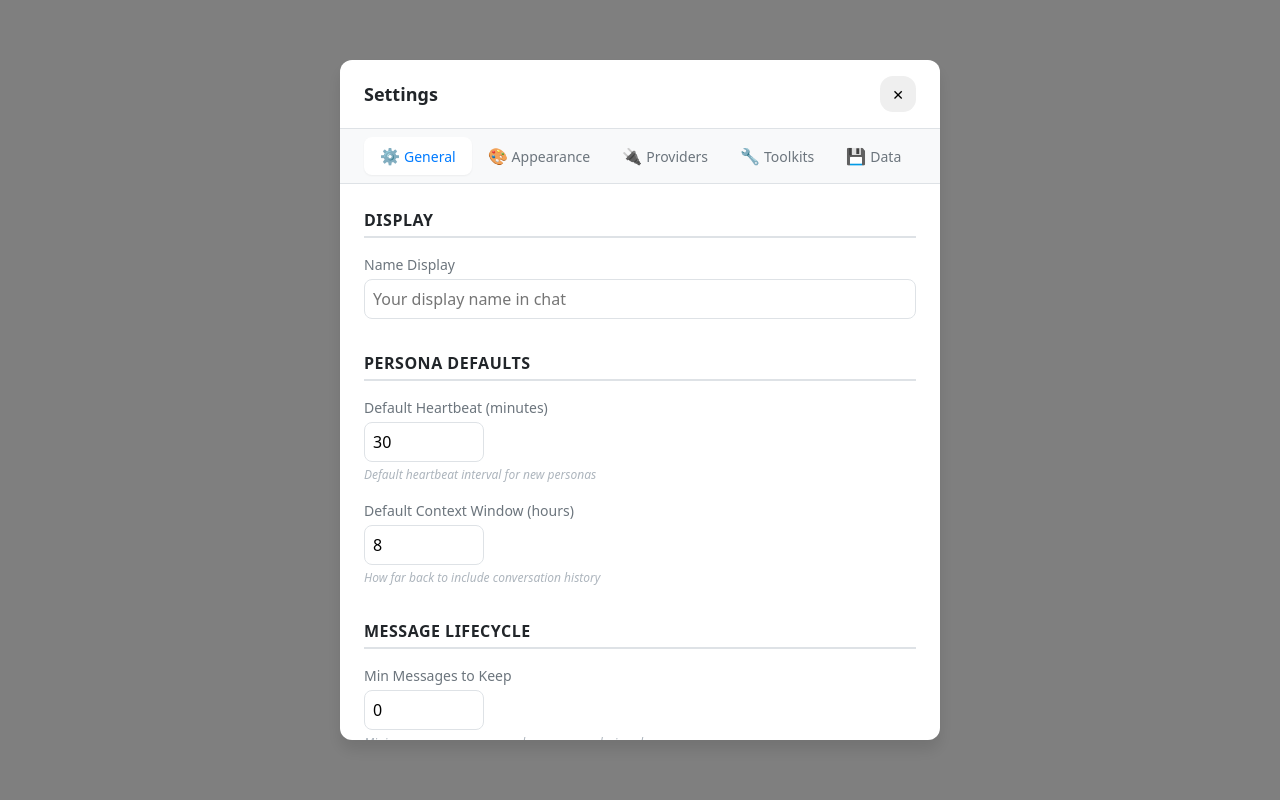
Test case: SettingsModal provider/model deletion cascade › deletes the whole provider through processor.deleteProvider and clears local state on success
Click the text "Providers" at (677, 156), box [646,146,708,166]
(page scrolled)
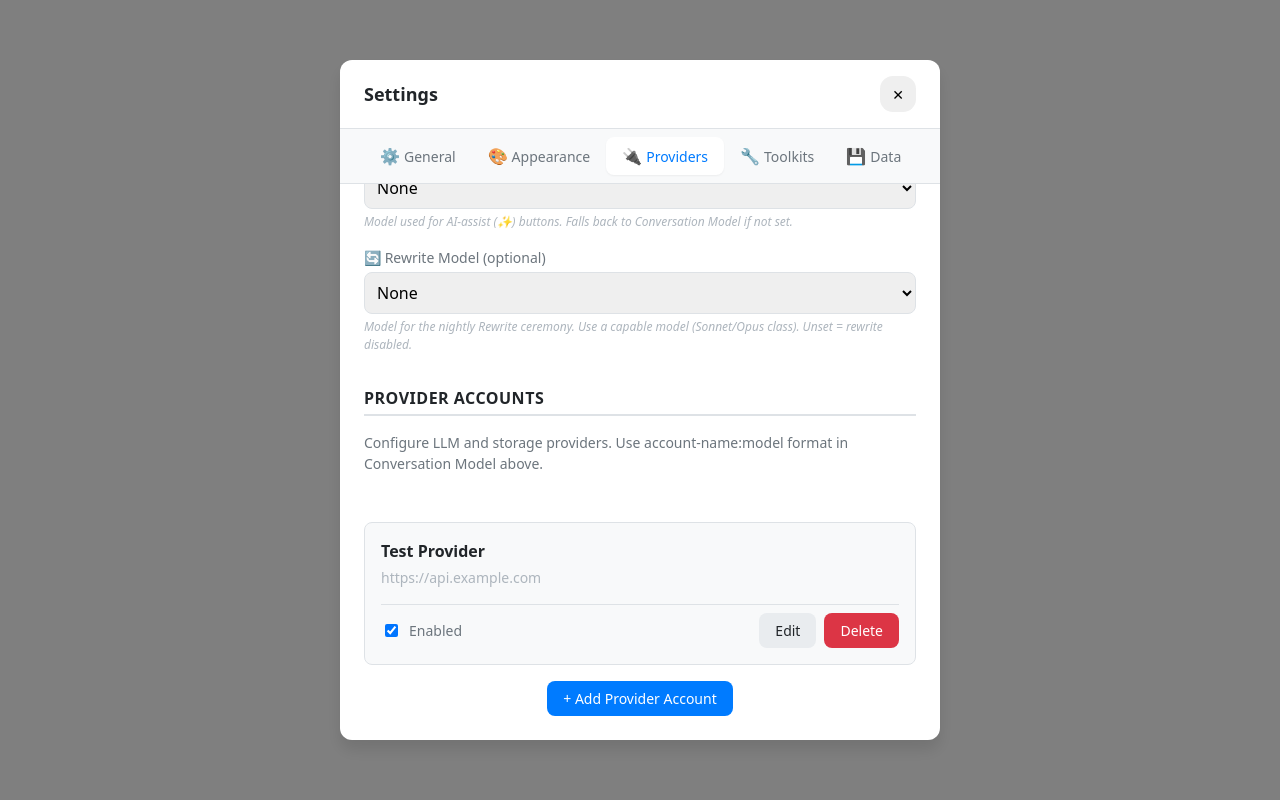
Click the button "Delete" at (862, 630), box [824,613,899,648]
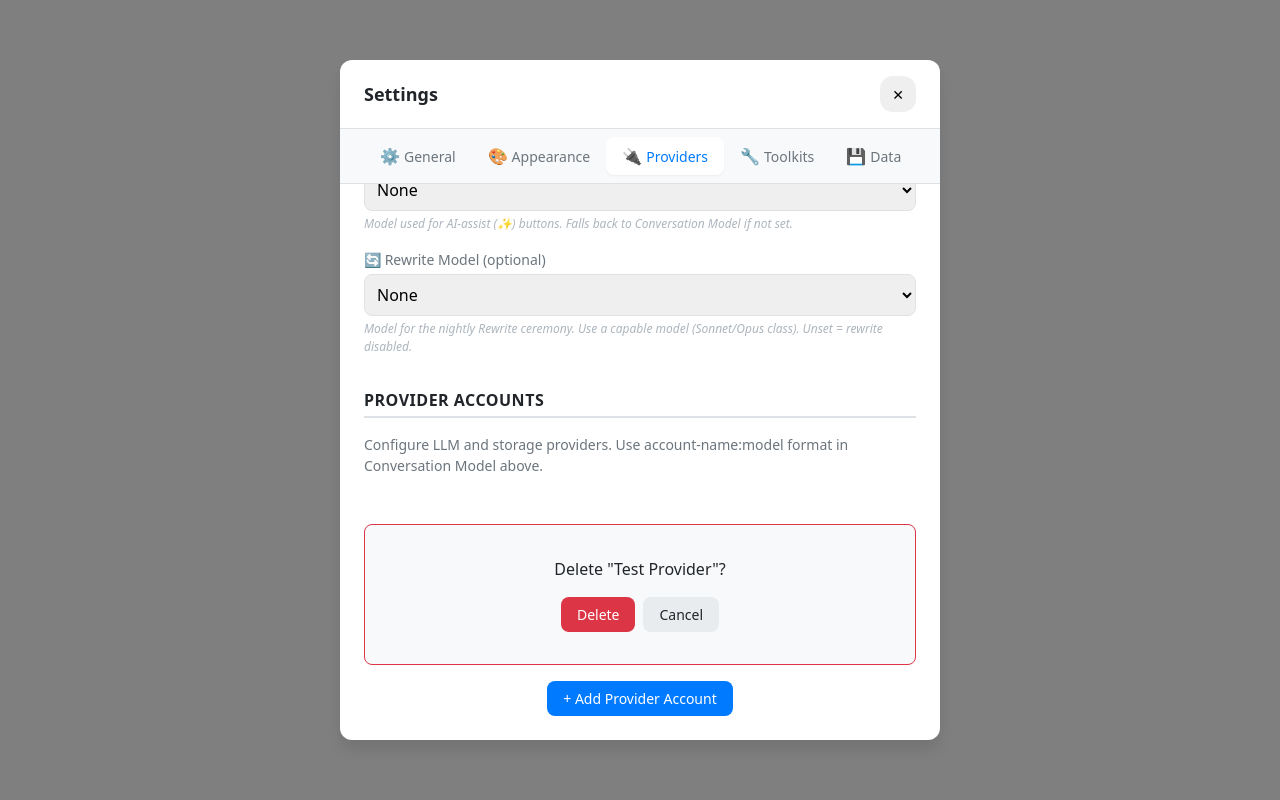
Click the button "Delete" at (598, 614), box [561,597,636,632]
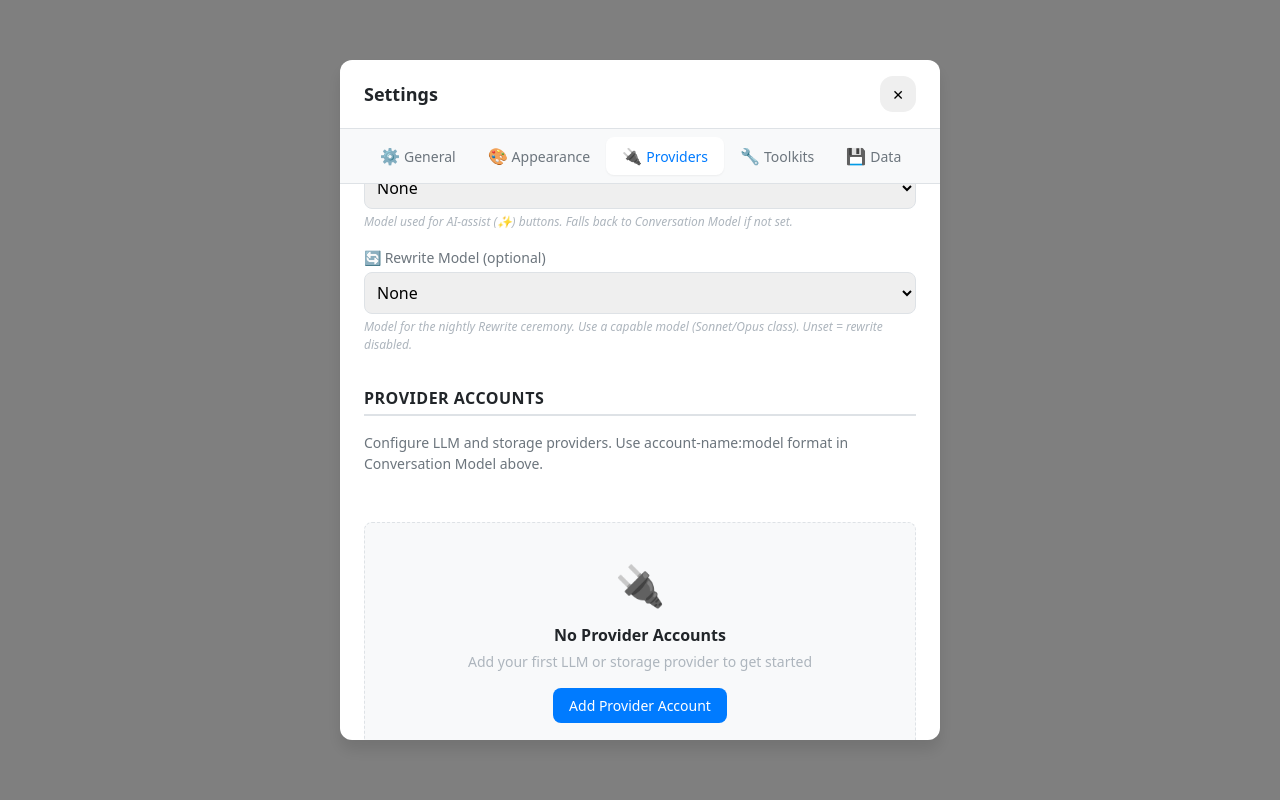
Now the text "Test Provider" is gone
